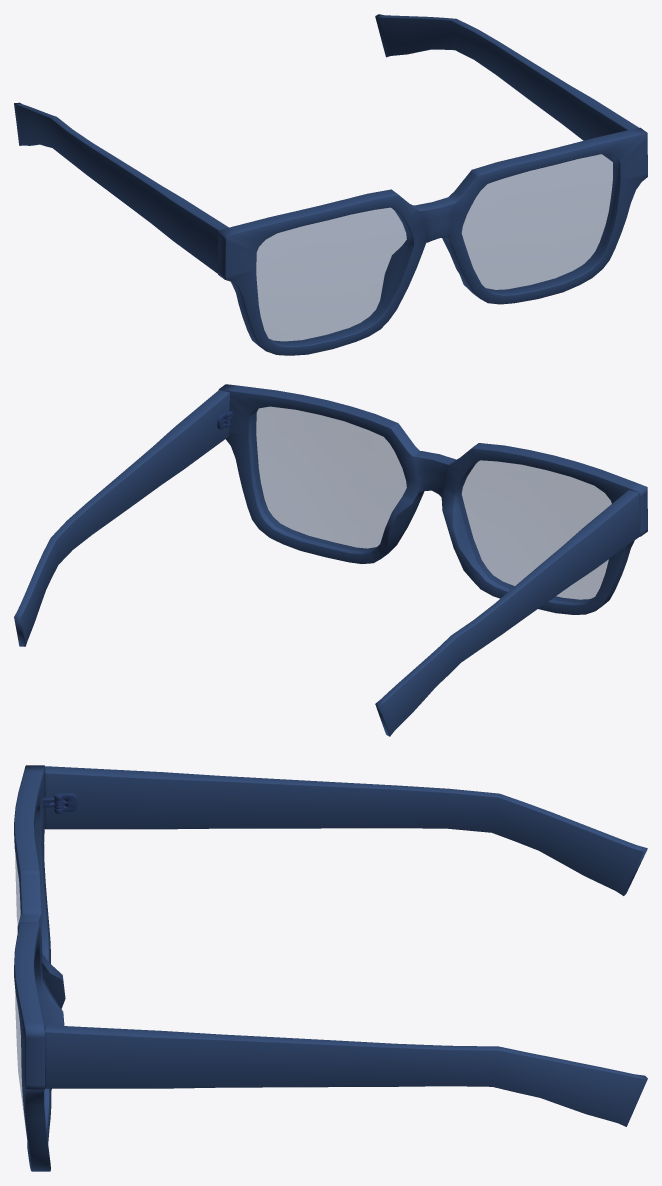
The model's file is yuvarlak-retro-gece-mavisi.glb.
The picture shows the model from 3 angles, top to bottom: view 1: azimuth 30°, elevation 25°; view 2: azimuth 150°, elevation 25°; view 3: azimuth 270°, elevation 25°; orthographic projection. The views are drawn at different scales.
Visible parts, largest first — view 1: OPTIK_PRODUCT_276; view 2: OPTIK_PRODUCT_276; view 3: OPTIK_PRODUCT_276.
Part boxes in pixels (x1,y1,x2,y2): OPTIK_PRODUCT_276: [14, 14, 647, 355]; OPTIK_PRODUCT_276: [14, 384, 647, 736]; OPTIK_PRODUCT_276: [14, 765, 647, 1171].
Bounding box in the file's own units: 0.1534 × 0.0504 × 0.1538.
